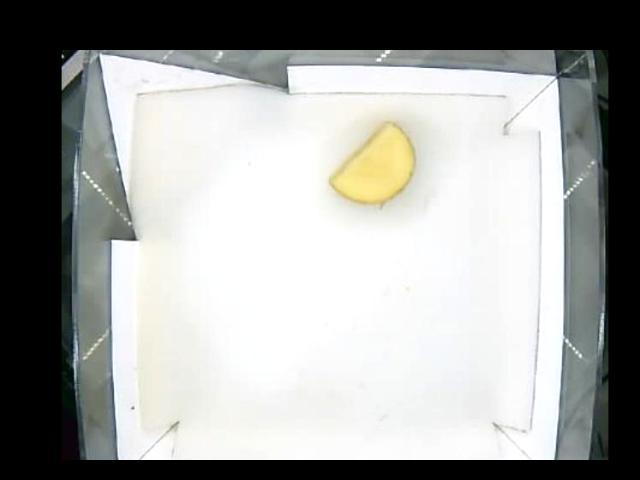Potato: (329, 122, 415, 209)
